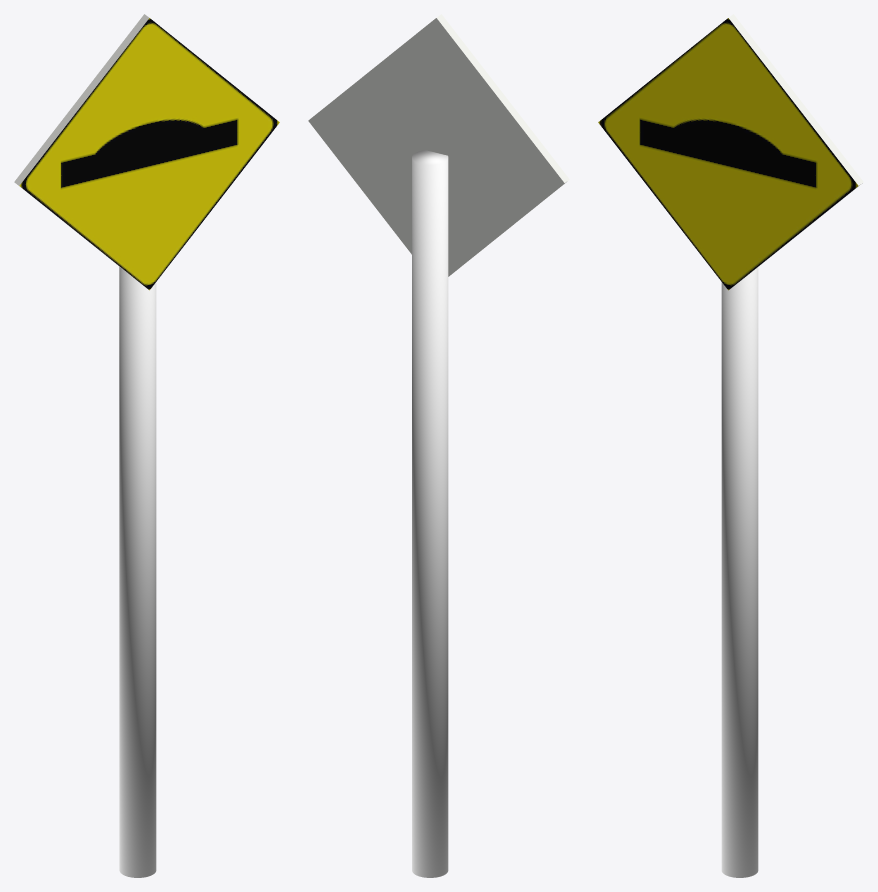
File: LOMA DE BURRO.fbx
The picture shows the model from 3 angles, left to right: view 1: azimuth 30°, elevation 25°; view 2: azimuth 150°, elevation 25°; view 3: azimuth 330°, elevation 25°; orthographic projection.
Visible parts, largest first — view 1: Cylinder.007; view 2: Cylinder.007; view 3: Cylinder.007.
Part boxes in pixels (x1=…): Cylinder.007: x1=14, y1=14, x2=279, y2=877; Cylinder.007: x1=308, y1=14, x2=569, y2=877; Cylinder.007: x1=598, y1=14, x2=863, y2=877.
Bounding box in the file's own units: 81.45 × 257 × 11.32.
Materials: 2 (2 with a texture image).
